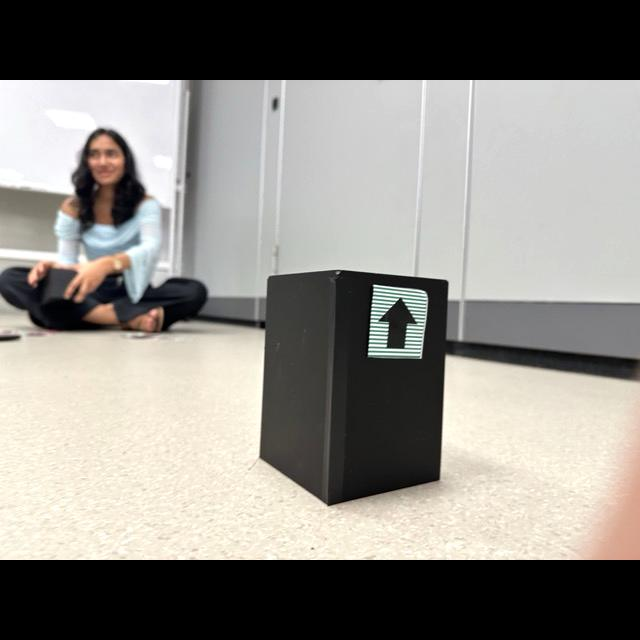UP: (379, 297, 417, 348)
